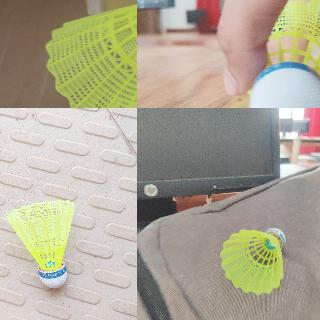shuttlecock: (45, 0, 136, 107), (246, 0, 319, 107), (5, 198, 74, 288), (221, 225, 283, 293)
